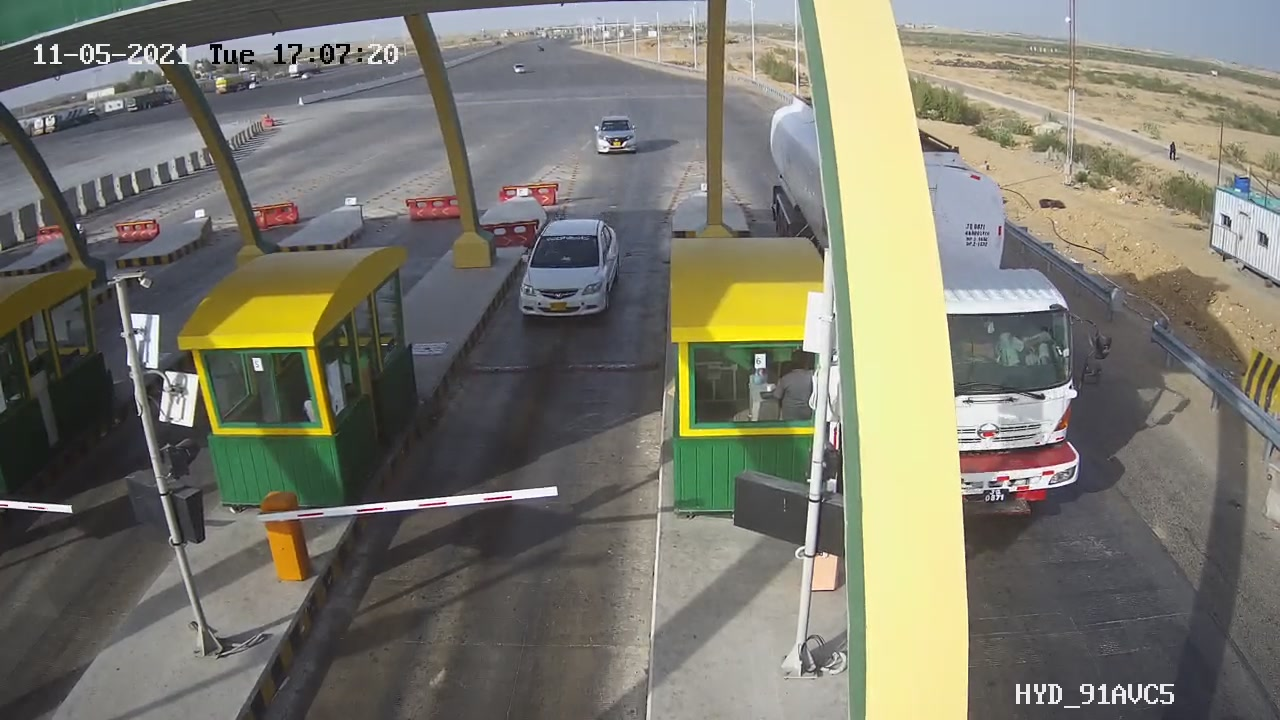F1: (498, 209, 638, 338)
